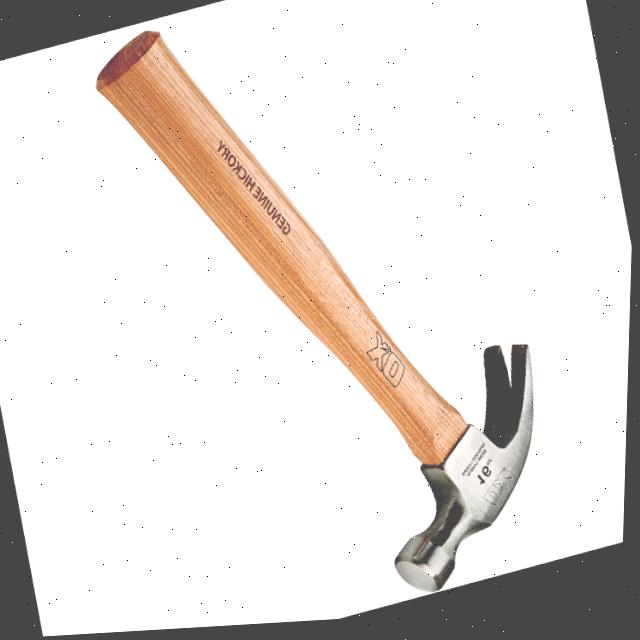hammer: (64, 0, 593, 636)
